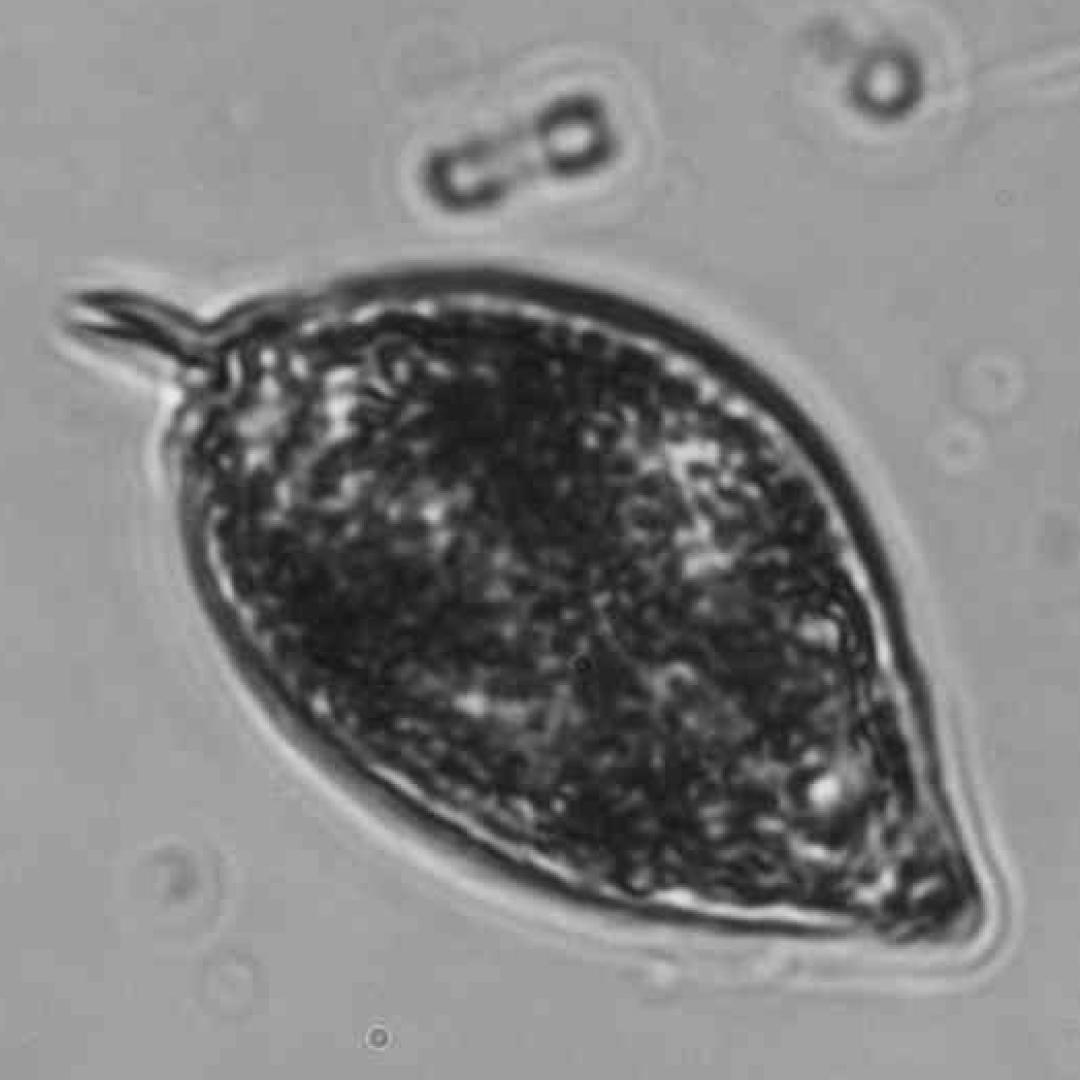prorocentrum_micans: (65, 267, 984, 949)
